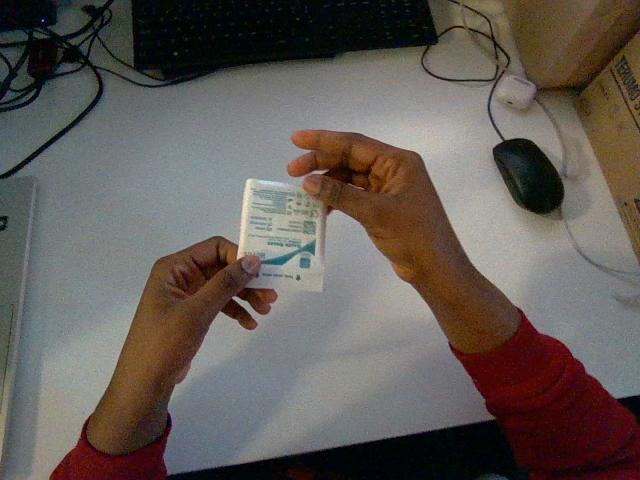gauze: (238, 179, 325, 290)
